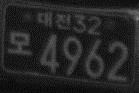2: (105, 39, 130, 82), (87, 15, 102, 37)
3: (73, 13, 87, 34)
4: (38, 33, 60, 74)
6: (84, 38, 105, 79)
9: (62, 35, 83, 78)
대전_O: (37, 10, 72, 31)
모: (6, 31, 34, 56)
